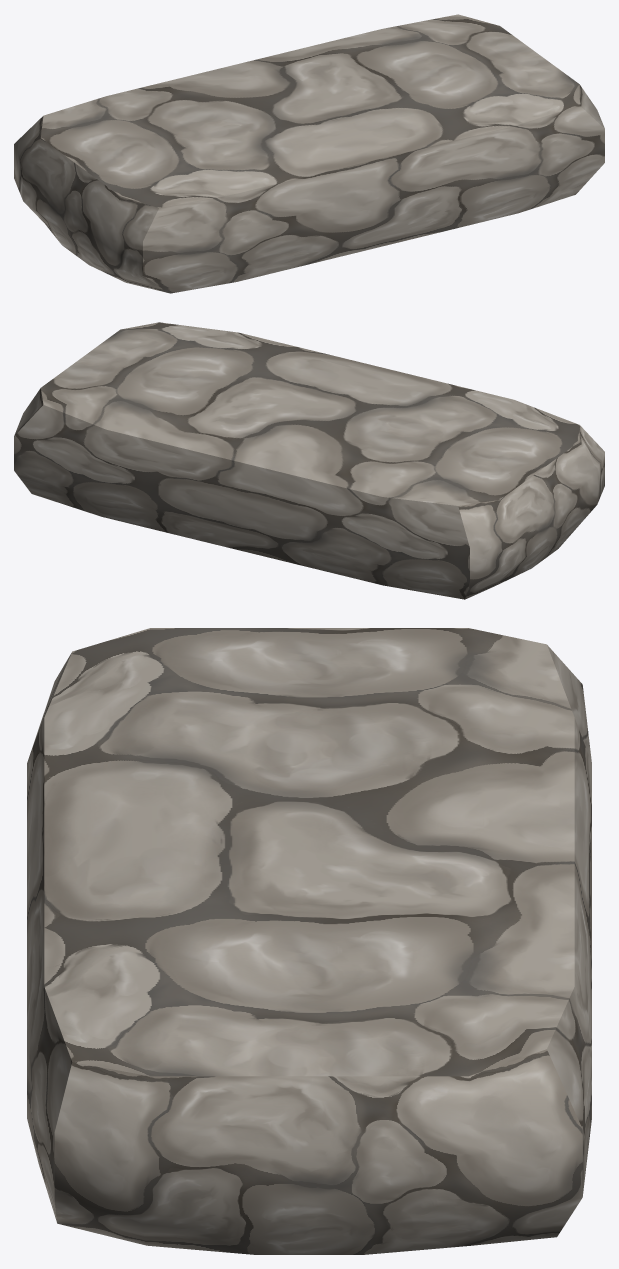
File: block1.fbx
3 views of the same model, one above another, from view 1: azimuth 30°, elevation 25°; view 2: azimuth 150°, elevation 25°; view 3: azimuth 270°, elevation 25° (orthographic). The views are drawn at different scales.
Parts seen in each view (by area): view 1: pCube1; view 2: pCube1; view 3: pCube1.
Part boxes in pixels (x1,y1,x2,y2): pCube1: [14, 14, 604, 293]; pCube1: [14, 322, 604, 599]; pCube1: [27, 628, 591, 1254].
Size of the model in its own units: 100 by 20 by 50.
